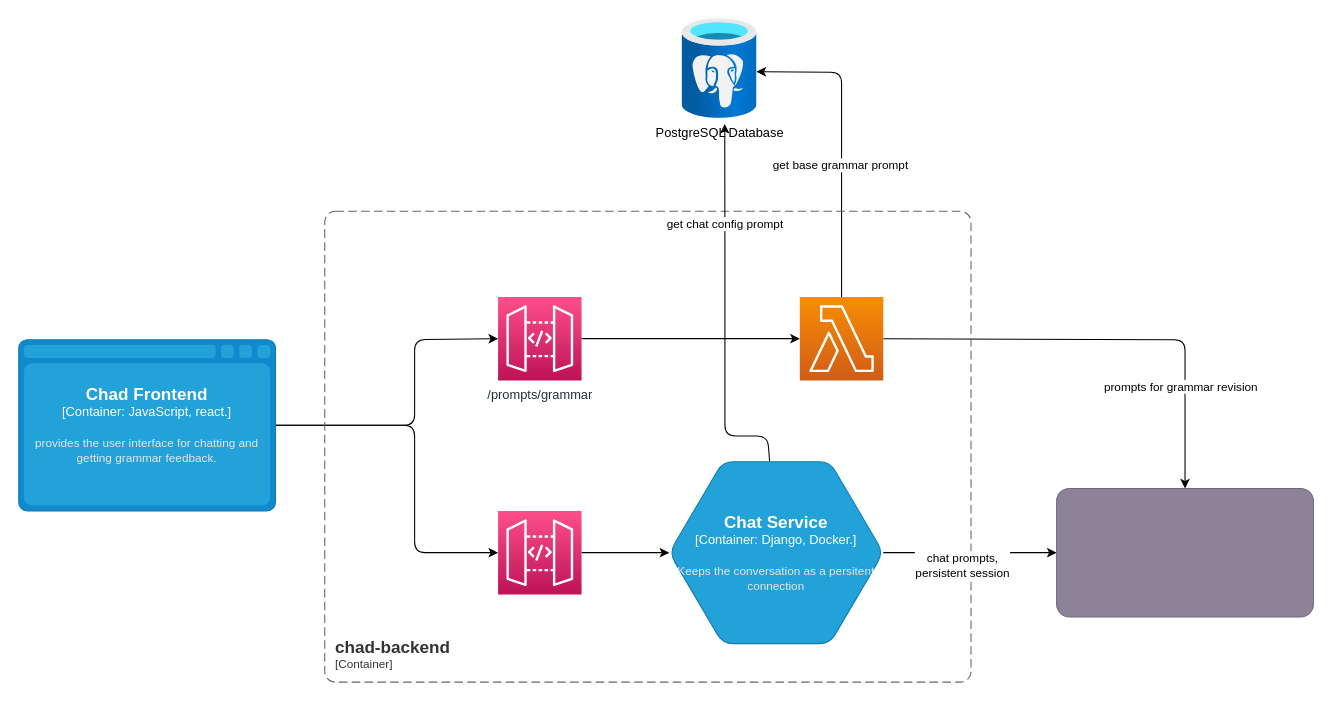
Some shapes in this 1332 by 701 pixel diagram are drawn without their labels. The shapes that lost their labels are listed below. From the top down, each one's centre as x and y in pixels, then its label:
(x=841, y=338): grammar-prompts-service
(x=539, y=552): /prompts/chat
(x=1184, y=552): ChatGPT API [LLM] ChatGPT session
